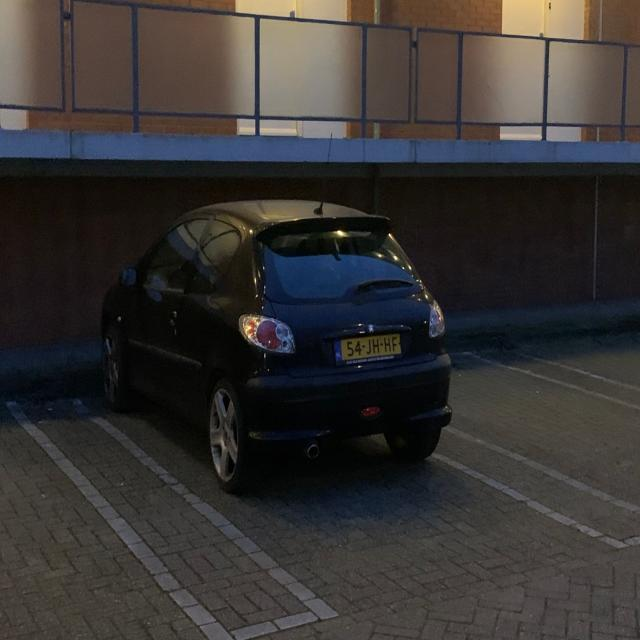plate: (336, 330, 403, 363)
